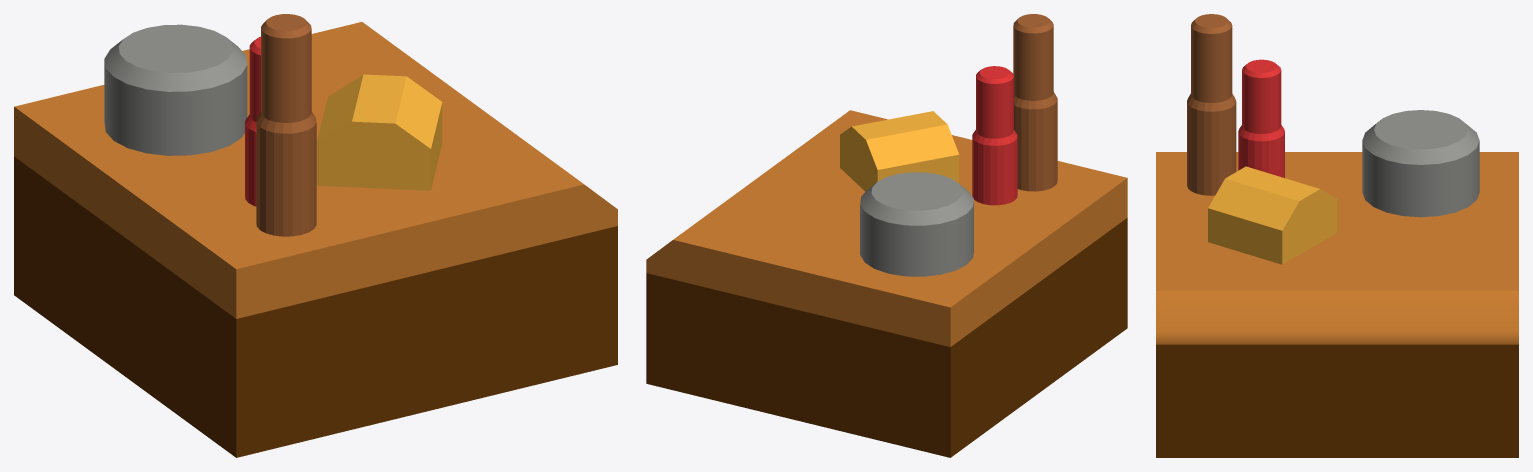
Rendered from Refinary01.fbx.
3 renders of one model, left to right at view 1: azimuth 30°, elevation 25°; view 2: azimuth 150°, elevation 25°; view 3: azimuth 270°, elevation 25°, orthographic. The views are drawn at different scales.
Parts seen in each view (by area): view 1: Refinary01; view 2: Refinary01; view 3: Refinary01.
Part boxes in pixels (x1=…): Refinary01: x1=14, y1=14, x2=617, y2=457; Refinary01: x1=646, y1=14, x2=1127, y2=457; Refinary01: x1=1156, y1=14, x2=1518, y2=457.
Bounding box in the file's own units: 96.18 × 93.97 × 97.03.
Materials: 1 (1 with a texture image).
